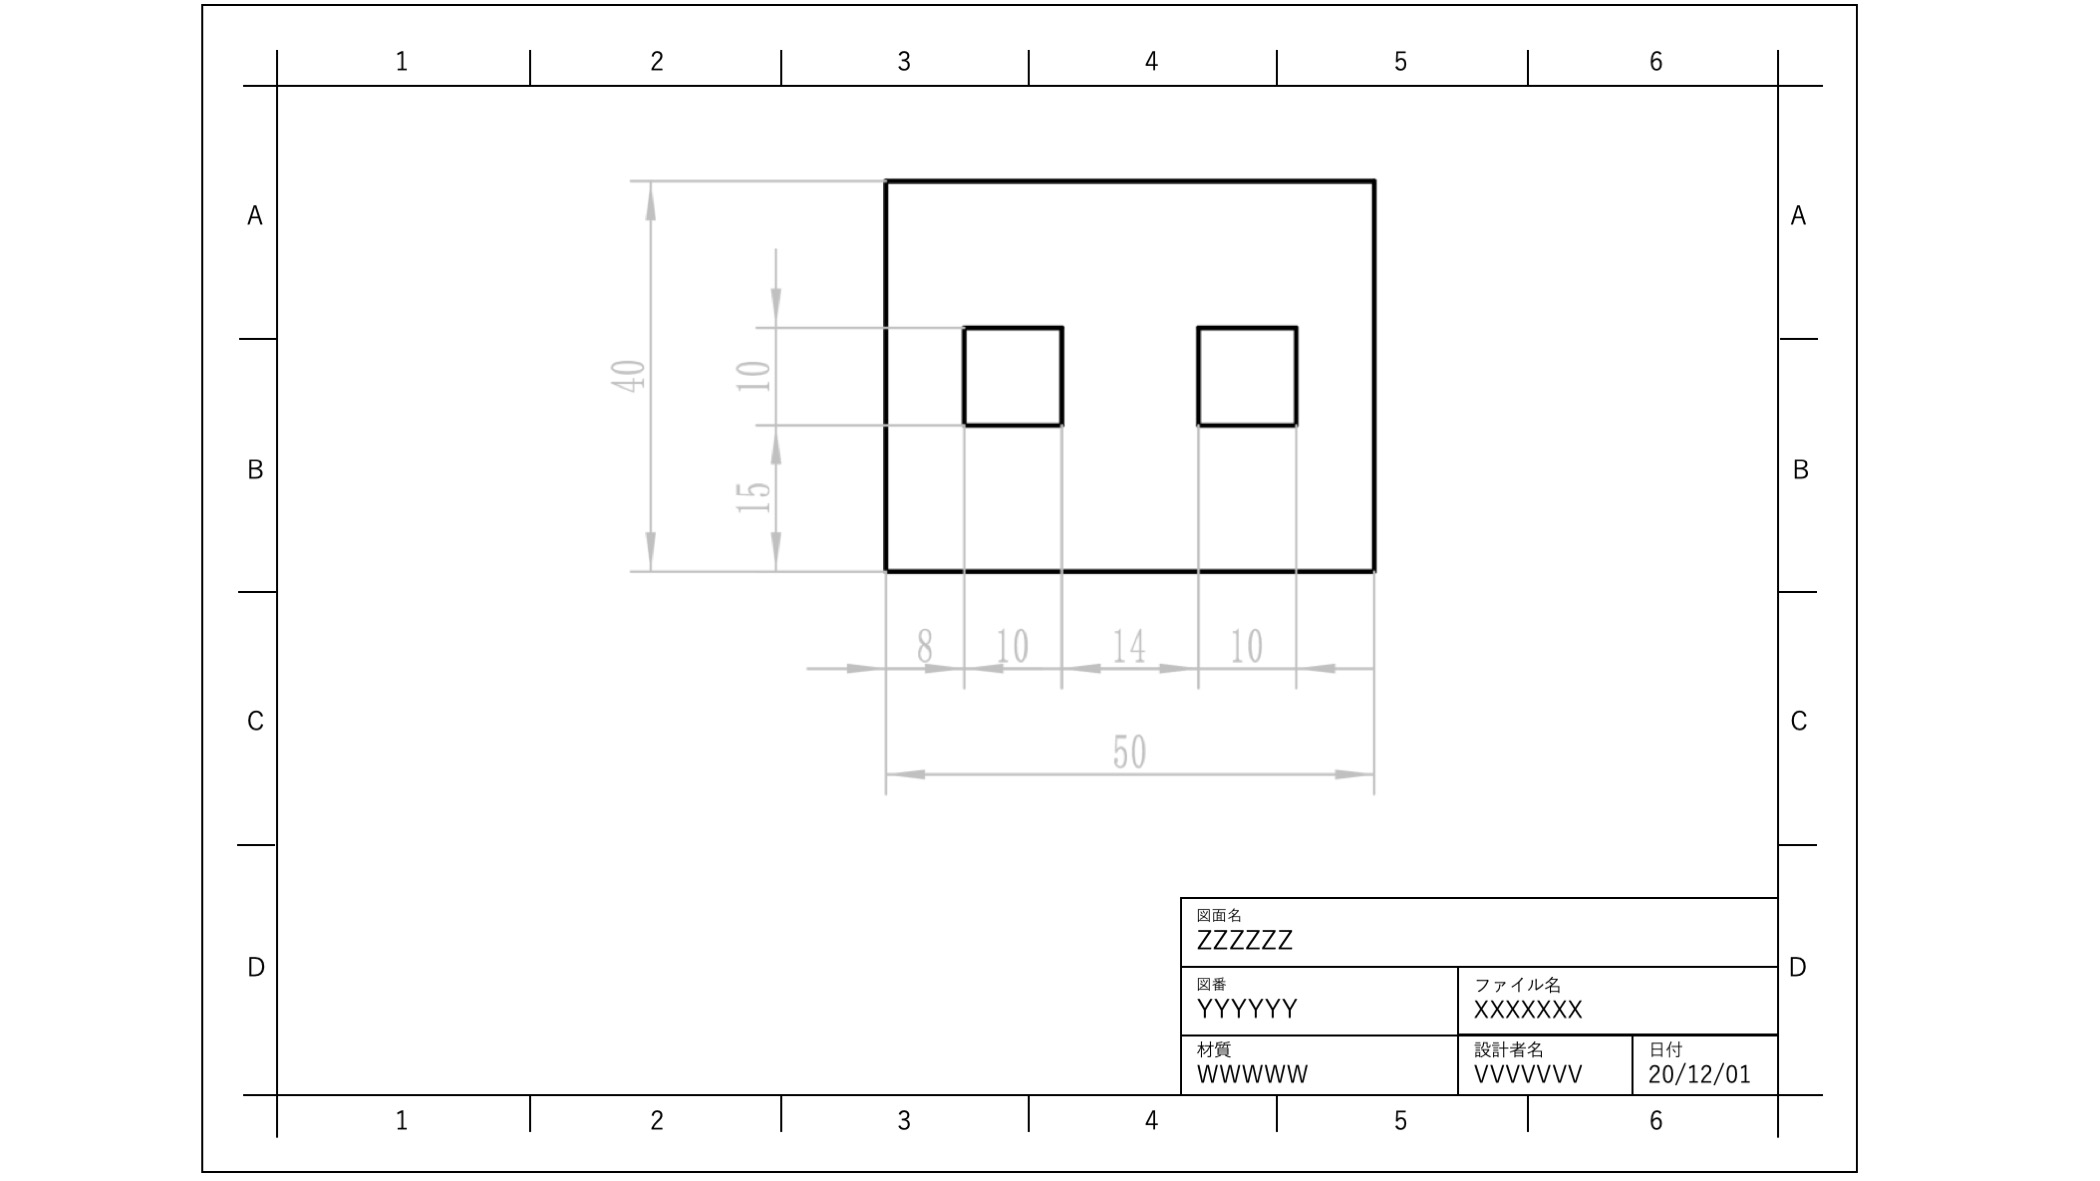rectangle: (1188, 314, 1302, 435), (958, 314, 1067, 435)
